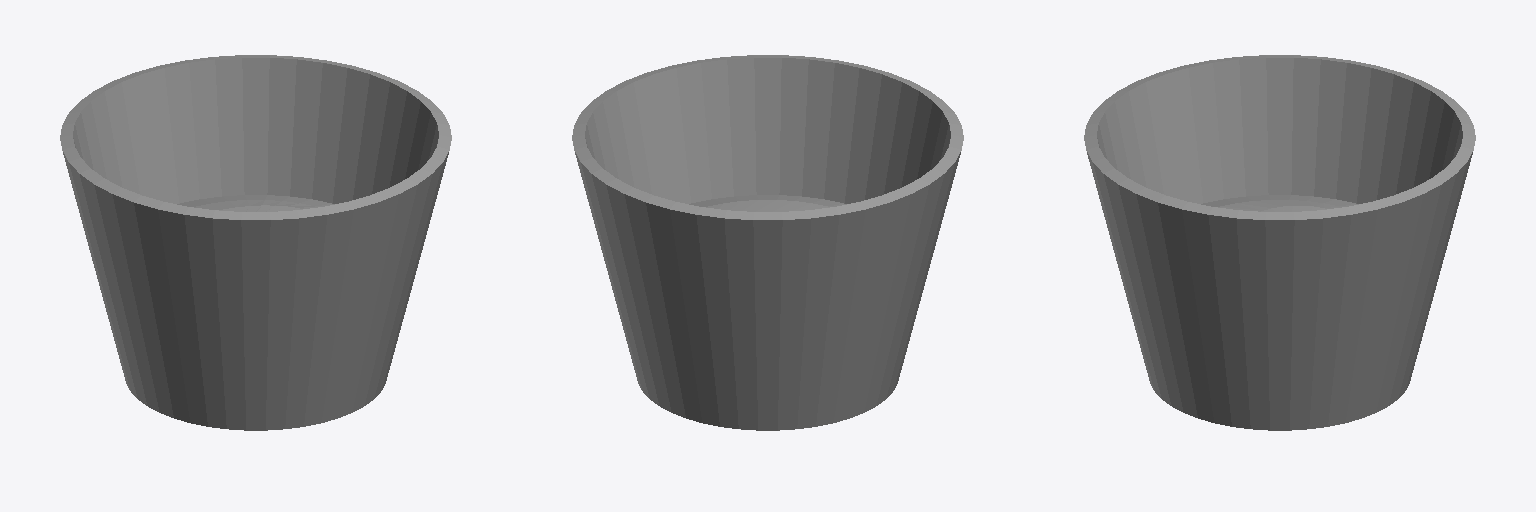
The model's file is PlantPot.obj.
3 views of the same model, side by side, from view 1: azimuth 30°, elevation 25°; view 2: azimuth 150°, elevation 25°; view 3: azimuth 270°, elevation 25° (orthographic).
Parts seen in each view (by area): view 1: Circle; view 2: Circle; view 3: Circle.
Boxes of the visible parts, x1=… form: Circle: x1=60, y1=55, x2=451, y2=430; Circle: x1=572, y1=55, x2=963, y2=430; Circle: x1=1084, y1=55, x2=1475, y2=430.
Size of the model in its own units: 0.2958 by 0.2024 by 0.2967.